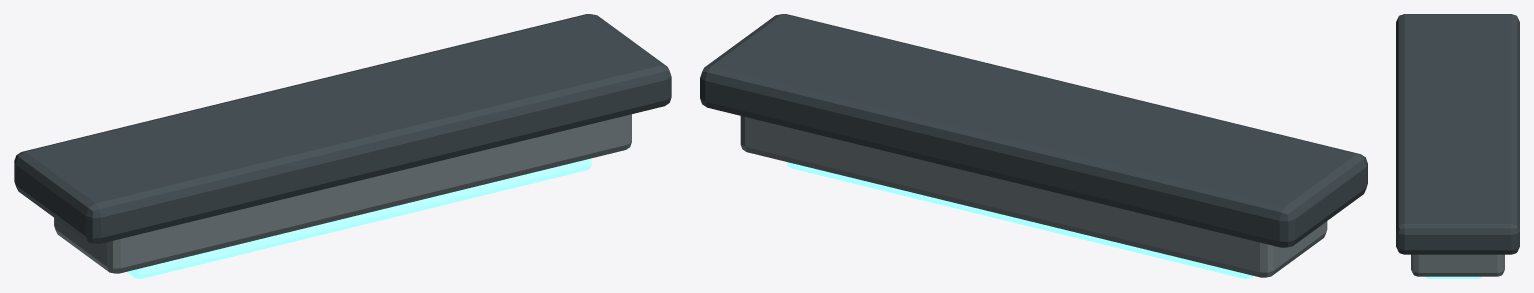
Rendered from CeilingLight_A.fbx.
3 views of the same model, side by side, from view 1: azimuth 30°, elevation 25°; view 2: azimuth 150°, elevation 25°; view 3: azimuth 270°, elevation 25° (orthographic). The views are drawn at different scales.
Parts seen in each view (by area): view 1: Light Mount, Light Housing, Light Lens; view 2: Light Mount, Light Housing, Light Lens; view 3: Light Mount, Light Housing, Light Lens.
Boxes of the visible parts, left/top/right/bottom form: Light Mount: left=14, top=14, right=671, bottom=244; Light Housing: left=54, top=114, right=631, bottom=273; Light Lens: left=127, top=158, right=591, bottom=278; Light Mount: left=700, top=14, right=1367, bottom=247; Light Housing: left=740, top=116, right=1327, bottom=277; Light Lens: left=787, top=162, right=1253, bottom=278; Light Mount: left=1396, top=14, right=1519, bottom=254; Light Housing: left=1411, top=254, right=1504, bottom=276; Light Lens: left=1425, top=276, right=1481, bottom=278.
Size of the model in its own units: 2.4 by 0.4 by 0.58.
